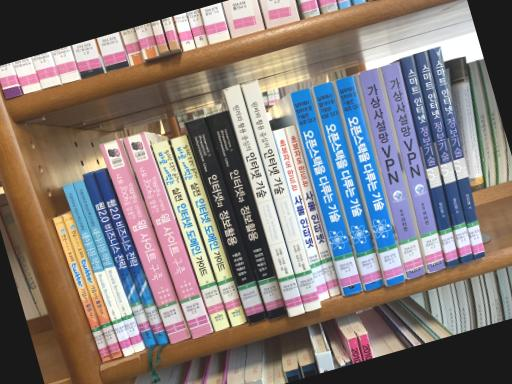book-spine: (223, 84, 305, 317), (122, 131, 213, 339), (100, 138, 191, 344), (242, 79, 321, 312), (204, 110, 288, 319), (184, 118, 268, 324), (312, 81, 384, 292), (335, 76, 406, 287), (152, 140, 230, 331), (170, 134, 247, 327), (291, 87, 362, 296), (358, 68, 425, 280), (381, 61, 446, 273), (93, 168, 169, 346), (83, 171, 157, 348), (414, 51, 474, 264), (400, 55, 459, 267), (62, 183, 134, 356), (73, 179, 144, 353), (428, 46, 486, 259), (273, 128, 331, 301), (284, 124, 341, 297), (53, 215, 113, 362), (63, 213, 123, 360)
